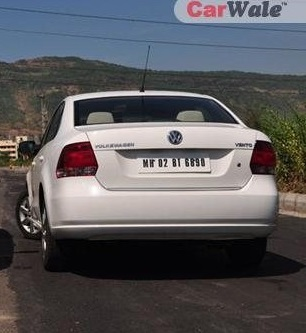MH02B16890: (137, 152, 211, 173)
